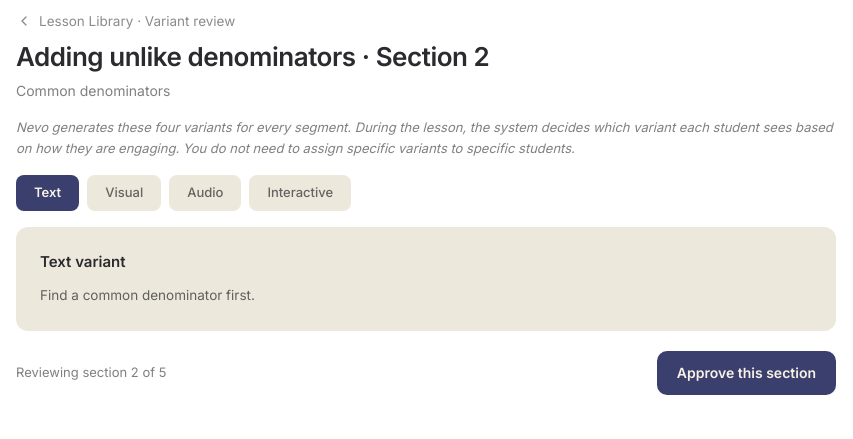
Scenario: when the write fails › claims nothing was approved
Click the button "Approve this section".
click(746, 373)  # box [657,351,836,395]
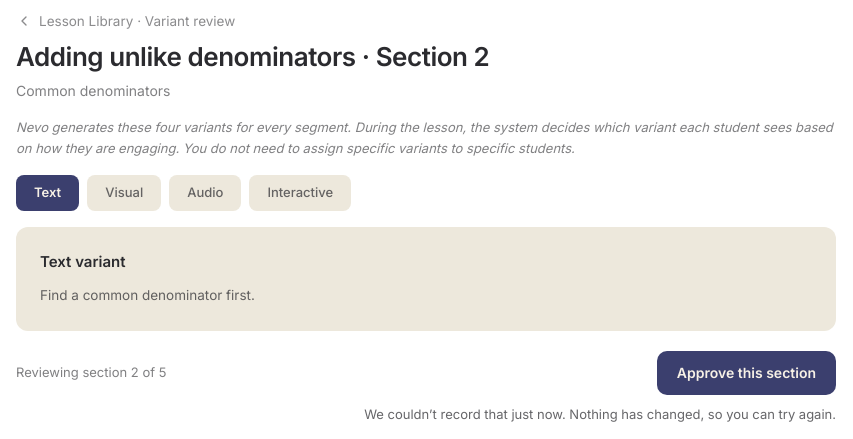
Expected: the text "couldn’t record that just now" is shown, [364,406,836,422]
